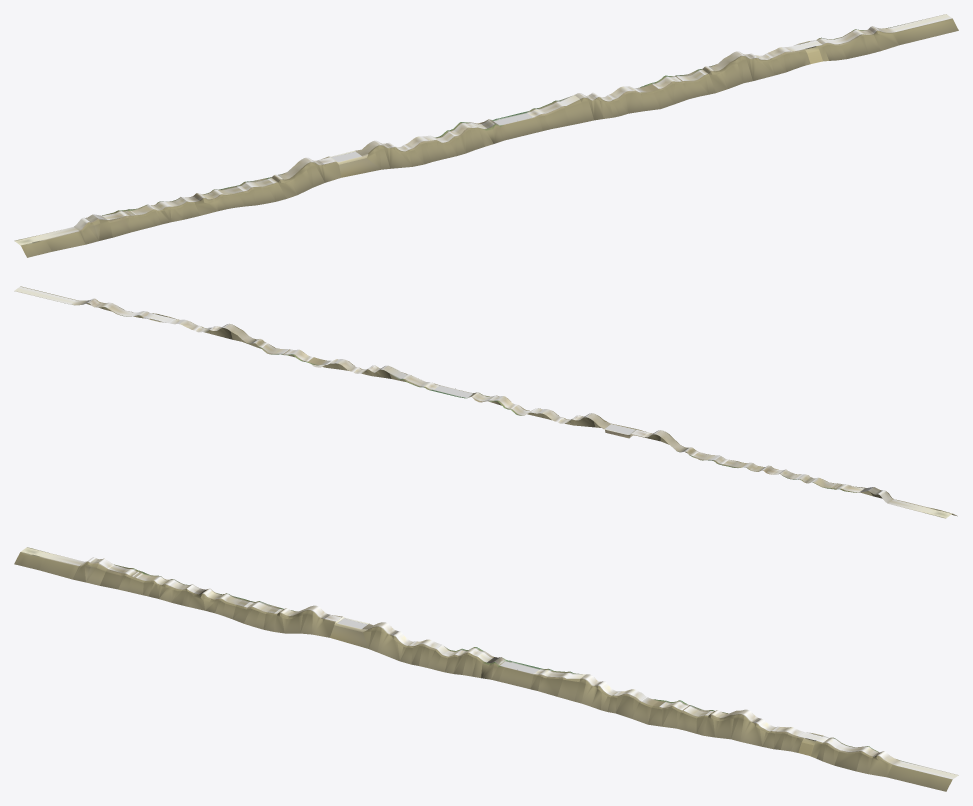
Rendered from Beach_14.fbx.
3 views of the same model, one above another, from view 1: azimuth 30°, elevation 25°; view 2: azimuth 150°, elevation 25°; view 3: azimuth 330°, elevation 25° (orthographic).
Parts seen in each view (by area): view 1: Road_01, Ground_01; view 2: Ground_01, Road_01; view 3: Road_01, Ground_01.
Part boxes in pixels (<box>): Road_01: <box>14,14,958,257</box>; Ground_01: <box>15,14,951,245</box>; Ground_01: <box>14,286,951,517</box>; Road_01: <box>14,286,957,518</box>; Road_01: <box>14,547,958,791</box>; Ground_01: <box>21,547,957,779</box>.
Bounding box in the file's own units: 109778 × 3054 × 2980.
